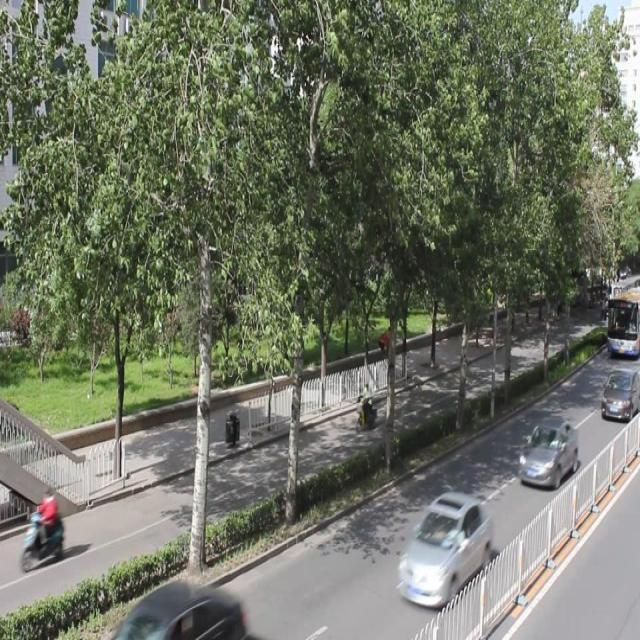car: (398, 487, 490, 607), (117, 577, 245, 640), (518, 414, 578, 487), (598, 364, 640, 418)
